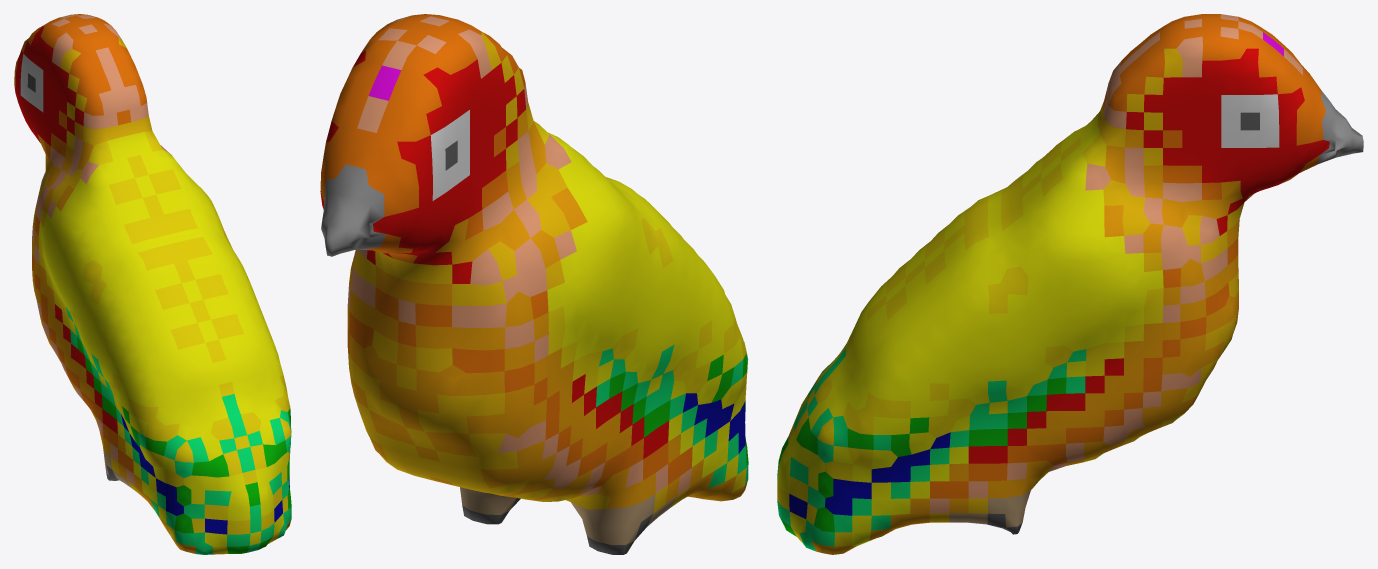
The picture shows the model from 3 angles, left to right: view 1: azimuth 30°, elevation 25°; view 2: azimuth 150°, elevation 25°; view 3: azimuth 270°, elevation 25°; orthographic projection. The views are drawn at different scales.
Bounding box in the file's own units: 0.55 × 1.44 × 1.51.
